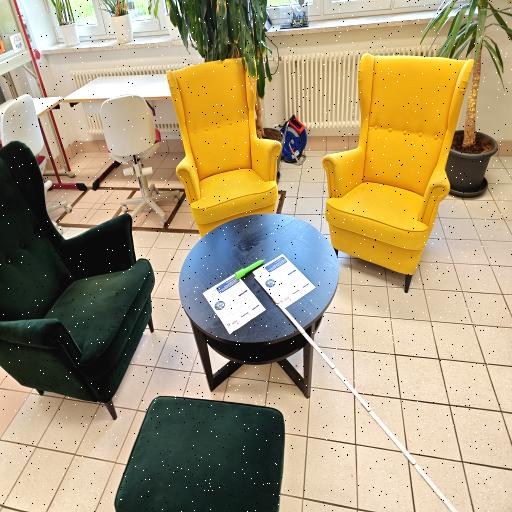Probe-Detection: (235, 260, 265, 279)
